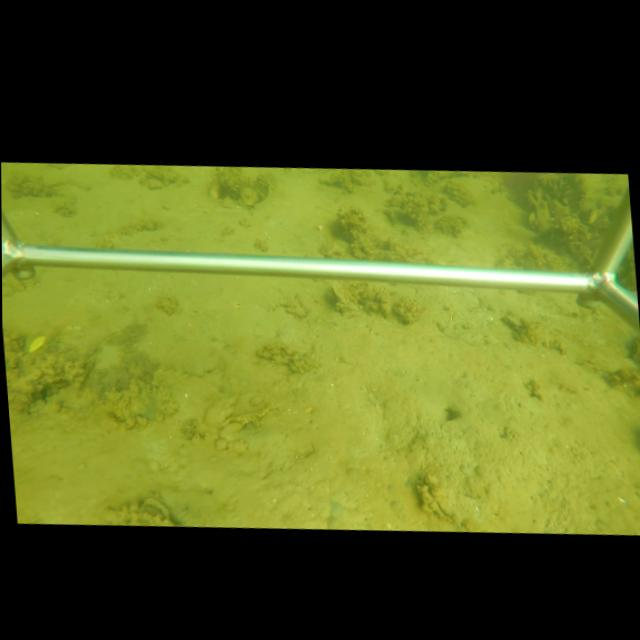Oyster-Closed: (420, 467, 469, 529), (329, 280, 360, 313)
